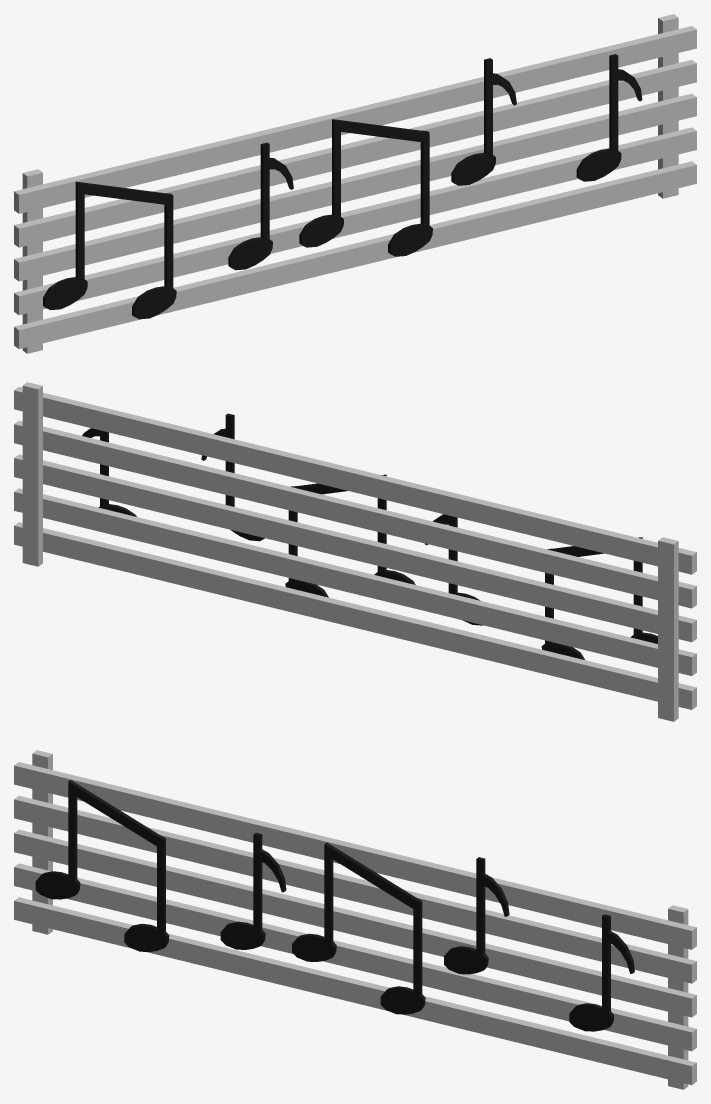
Rendered from Int_MusicRoomDecoration01_1.fbx.
The picture shows the model from 3 angles, top to bottom: view 1: azimuth 30°, elevation 25°; view 2: azimuth 150°, elevation 25°; view 3: azimuth 330°, elevation 25°; orthographic projection.
Visible parts, largest first — view 1: Int_MusicRoomDecoration01_1; view 2: Int_MusicRoomDecoration01_1; view 3: Int_MusicRoomDecoration01_1.
Boxes of the visible parts, left/top/right/bottom form: Int_MusicRoomDecoration01_1: left=14, top=14, right=696, bottom=353; Int_MusicRoomDecoration01_1: left=14, top=382, right=696, bottom=721; Int_MusicRoomDecoration01_1: left=14, top=750, right=696, bottom=1089.
Size of what is drawn, in the model's own units: 200 by 6.24 by 52.91.
